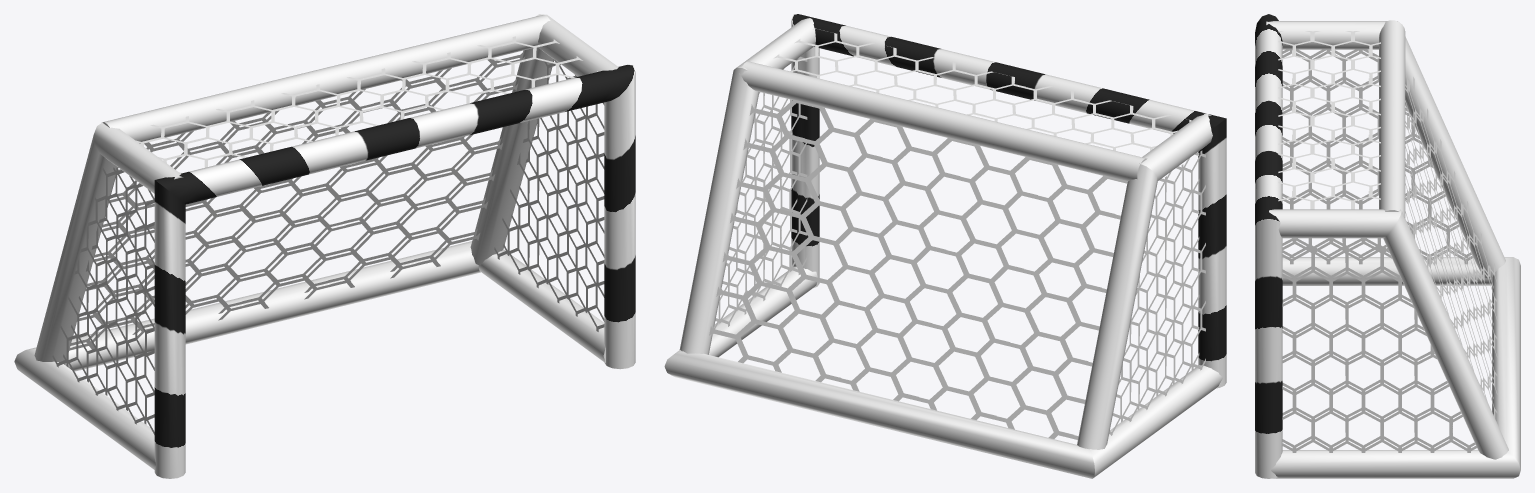
Rendered from Goal_Model.FBX.
3 views of the same model, side by side, from view 1: azimuth 30°, elevation 25°; view 2: azimuth 150°, elevation 25°; view 3: azimuth 270°, elevation 25° (orthographic). The views are drawn at different scales.
Visible parts, largest first — view 1: Line001, Rectangle001, Plane002, Cylinder001, Line002, Line003, Plane003, Plane004, Plane001; view 2: Plane002, Line001, Rectangle001, Cylinder001, Line002, Line003, Plane003, Plane004, Plane001; view 3: Rectangle001, Line001, Line003, Plane004, Line002, Plane002, Plane003, Cylinder001, Plane001.
Boxes of the visible parts, left/top/right/bottom form: Line001: left=154, top=64, right=635, bottom=478; Rectangle001: left=14, top=241, right=605, bottom=469; Plane002: left=69, top=51, right=524, bottom=350; Cylinder001: left=102, top=15, right=550, bottom=143; Line002: left=34, top=122, right=182, bottom=364; Line003: left=470, top=14, right=618, bottom=265; Plane003: left=52, top=167, right=154, bottom=434; Plane004: left=494, top=59, right=604, bottom=331; Plane001: left=136, top=36, right=597, bottom=173; Plane002: left=709, top=99, right=1127, bottom=439; Line001: left=791, top=14, right=1226, bottom=388; Rectangle001: left=664, top=266, right=1222, bottom=478; Cylinder001: left=739, top=61, right=1147, bottom=181; Line002: left=1077, top=113, right=1212, bottom=449; Line003: left=679, top=18, right=815, bottom=354; Plane003: left=1109, top=150, right=1205, bottom=435; Plane004: left=714, top=56, right=807, bottom=328; Plane001: left=773, top=28, right=1191, bottom=150; Rectangle001: left=1271, top=257, right=1520, bottom=478; Line001: left=1255, top=14, right=1282, bottom=478; Line003: left=1269, top=209, right=1508, bottom=459; Plane004: left=1282, top=238, right=1477, bottom=452; Line002: left=1266, top=21, right=1505, bottom=278; Plane002: left=1405, top=72, right=1497, bottom=418; Plane003: left=1282, top=49, right=1473, bottom=264; Cylinder001: left=1379, top=20, right=1405, bottom=217; Plane001: left=1278, top=31, right=1380, bottom=209.
Size of the model in its own units: 98.99 by 59.85 by 54.14.
